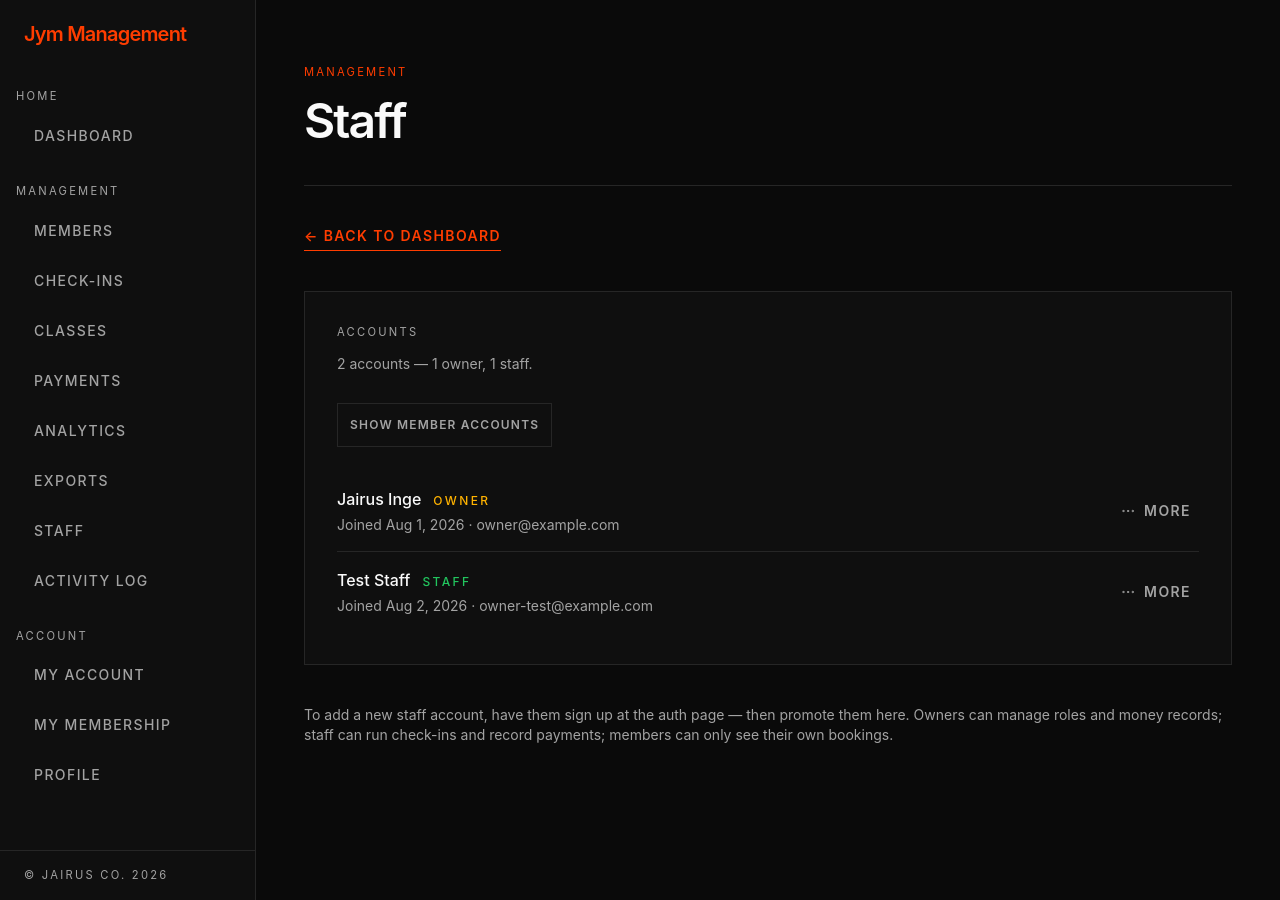
StaffPage › blocks demoting the only owner and explains why
Check: the text "Joined Aug 1, 2026 · owner@example.com" is shown, box 337,515 -> 620,535
Click the button "More" in the row of "Jairus Inge" at {"x": 1156, "y": 511}, box 1112,493 -> 1199,529
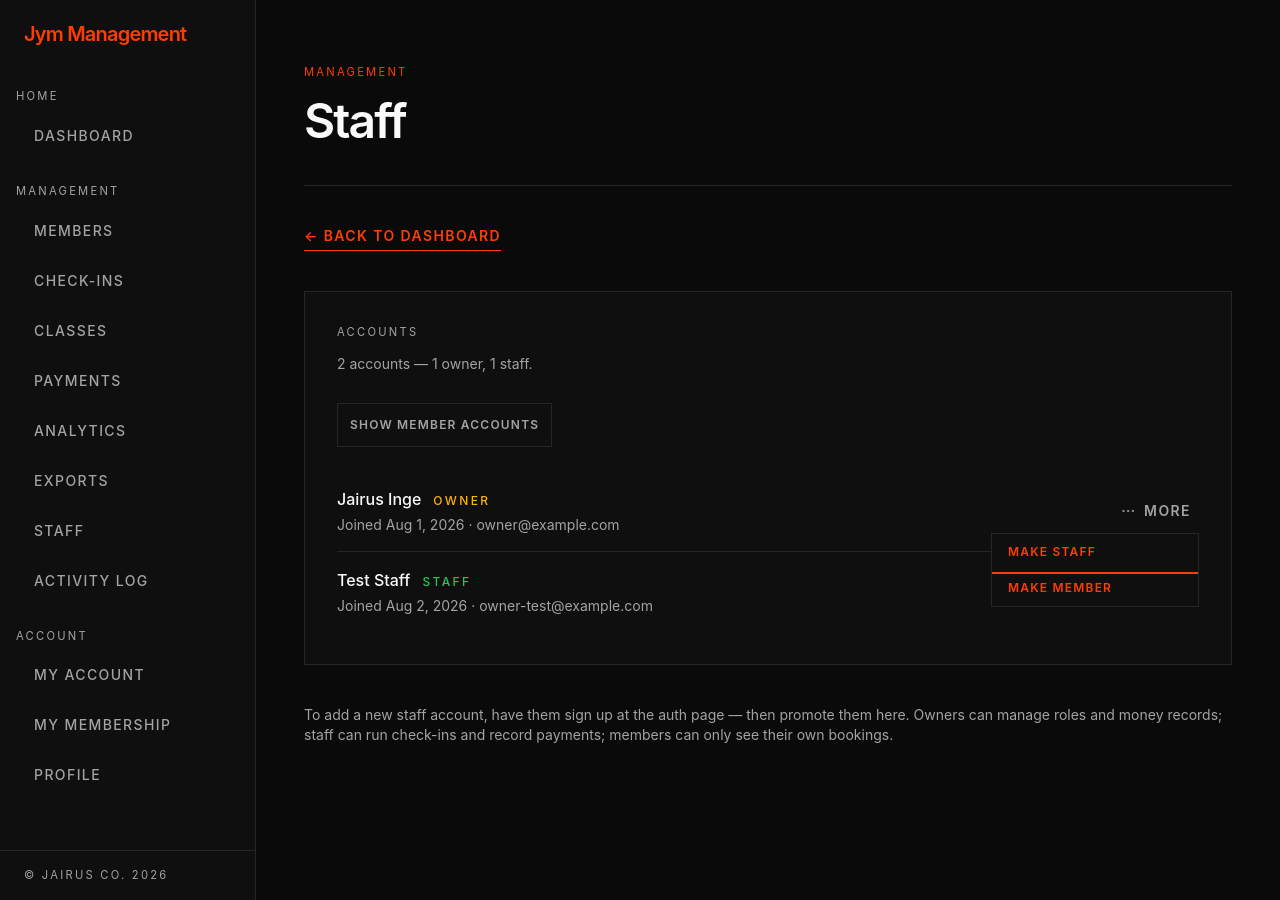
Click the menu item "Make staff" at {"x": 1095, "y": 552}, box 992,534 -> 1198,570
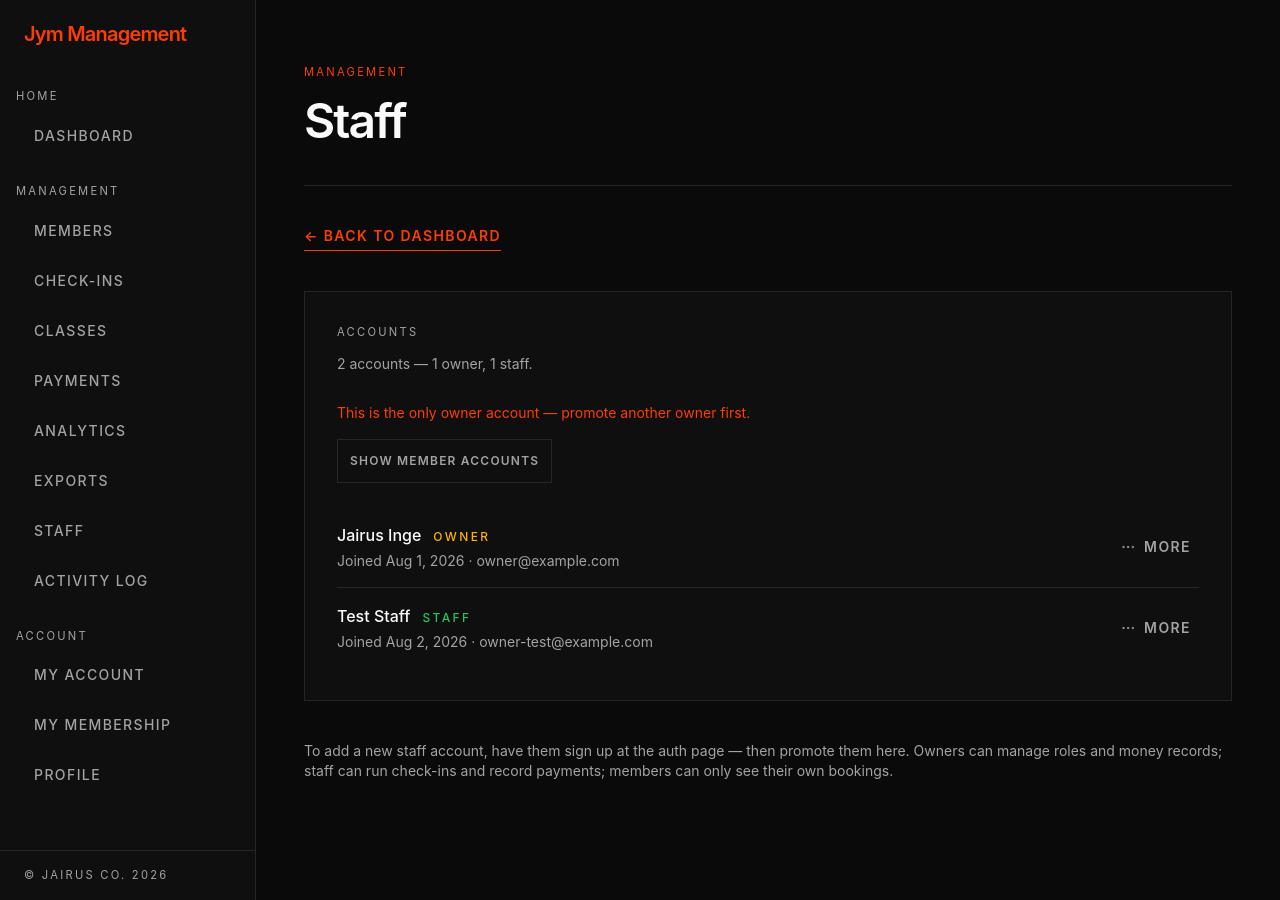
Check: the message shows "only owner account", box 337,404 -> 750,421
